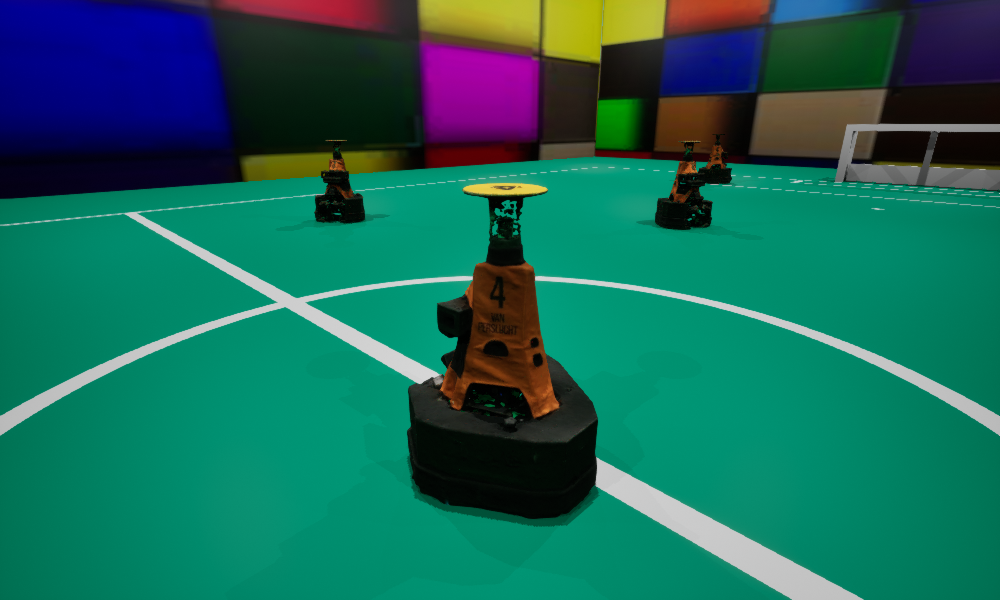0 orange robot TechUnited: (407, 183, 597, 518), (655, 141, 712, 229), (314, 140, 364, 221), (698, 134, 731, 183)
